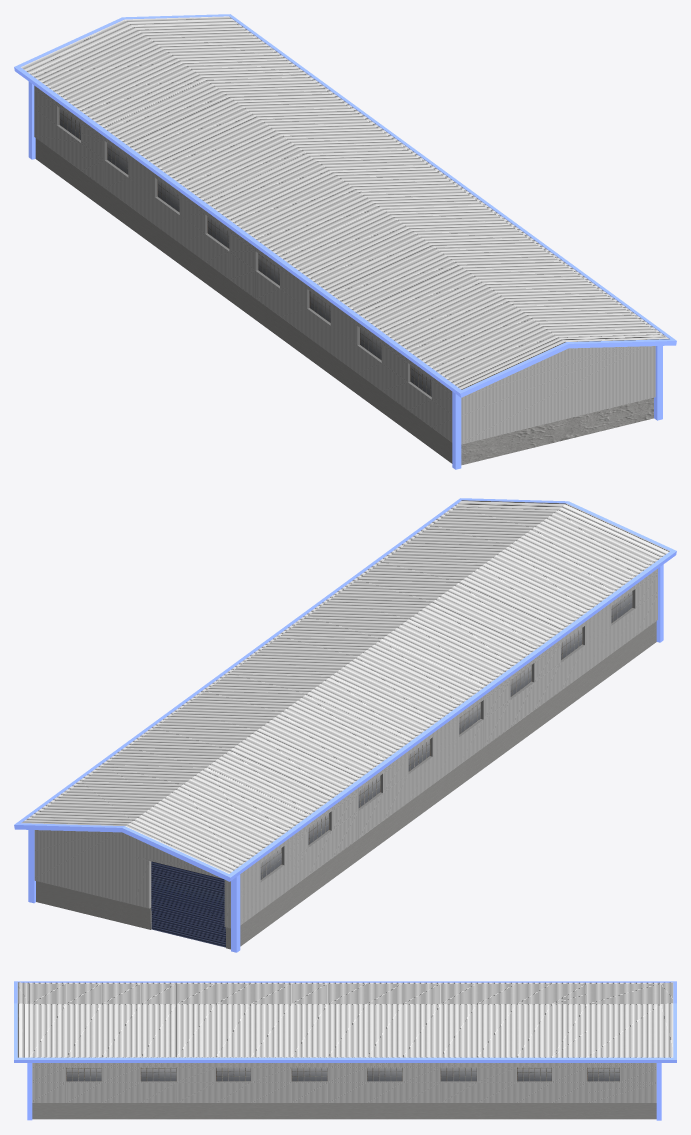
File: warehouse.fbx
3 views of the same model, one above another, from view 1: azimuth 30°, elevation 25°; view 2: azimuth 150°, elevation 25°; view 3: azimuth 270°, elevation 25° (orthographic). The views are drawn at different scales.
Parts seen in each view (by area): view 1: Cube.001, Cube.010, Cube.009, Cube.007, Cube.005, Cube.004; view 2: Cube.001, Cube.010, Cube.009, Cube.008, Cube.006, Cube; view 3: Cube.001, Cube.009, Cube.010, Cube.002, Cube.003, Cube.006, Cube.005.
Boxes of the visible parts, x1,y1,x2,y2 form: Cube.001: (21, 16, 669, 465); Cube.010: (16, 66, 461, 395); Cube.009: (229, 16, 673, 339); Cube.007: (458, 342, 568, 397); Cube.005: (566, 339, 676, 348); Cube.004: (452, 391, 461, 469); Cube.001: (21, 500, 669, 949); Cube.010: (228, 551, 674, 879); Cube.009: (17, 500, 461, 823); Cube.008: (122, 826, 232, 881); Cube.006: (14, 823, 124, 832); Cube: (231, 874, 240, 952); Cube.001: (17, 982, 673, 1119); Cube.009: (16, 1057, 673, 1062); Cube.010: (17, 981, 675, 982); Cube.002: (656, 1063, 661, 1120); Cube.003: (27, 1063, 32, 1120); Cube.006: (673, 1003, 676, 1062); Cube.005: (14, 1003, 17, 1062).
Size of the model in its own units: 88.34 by 41.71 by 315.
Materials: 6 (4 with a texture image).
